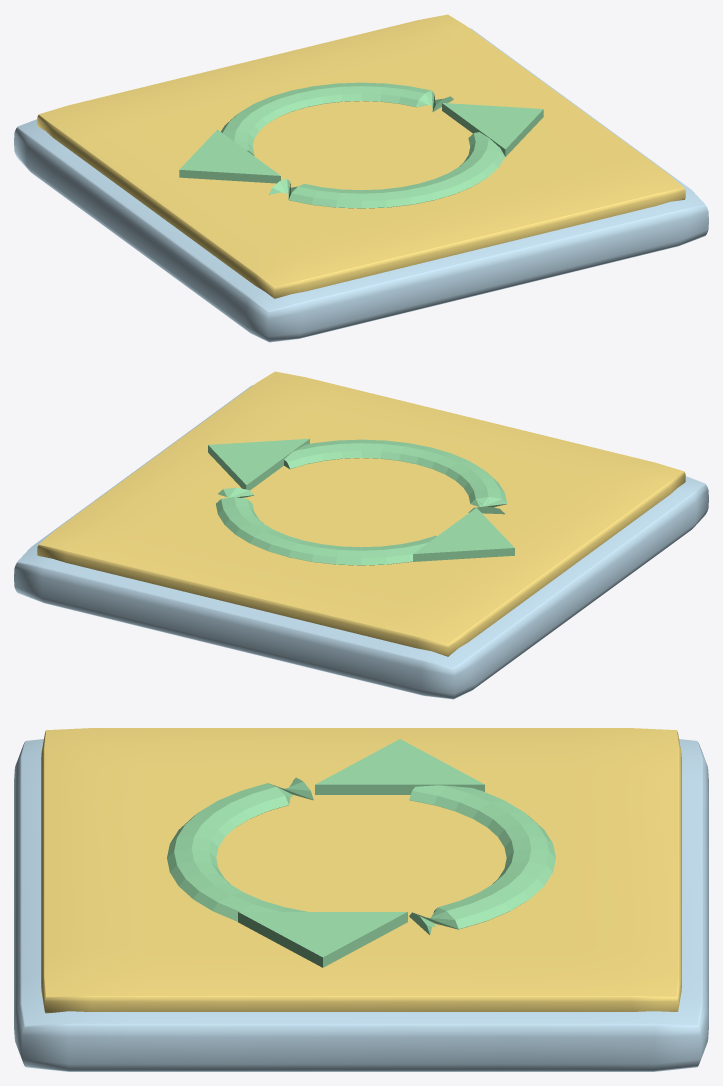
File: DiceDashTileSwap.glb
3 renders of one model, top to bottom at view 1: azimuth 30°, elevation 25°; view 2: azimuth 150°, elevation 25°; view 3: azimuth 270°, elevation 25°, orthographic. The views are drawn at different scales.
Parts seen in each view (by area): view 1: Top, Base, Icon; view 2: Top, Base, Icon; view 3: Top, Base, Icon.
Part boxes in pixels (bbox=[...]): Top: bbox=[37, 14, 685, 298]; Base: bbox=[14, 28, 708, 342]; Icon: bbox=[179, 82, 543, 208]; Top: bbox=[37, 371, 685, 656]; Base: bbox=[14, 385, 708, 699]; Icon: bbox=[208, 438, 514, 565]; Top: bbox=[41, 728, 681, 1013]; Base: bbox=[14, 739, 708, 1071]; Icon: bbox=[167, 739, 555, 967].
Bounding box in the file's own units: 9 × 1.25 × 9.
